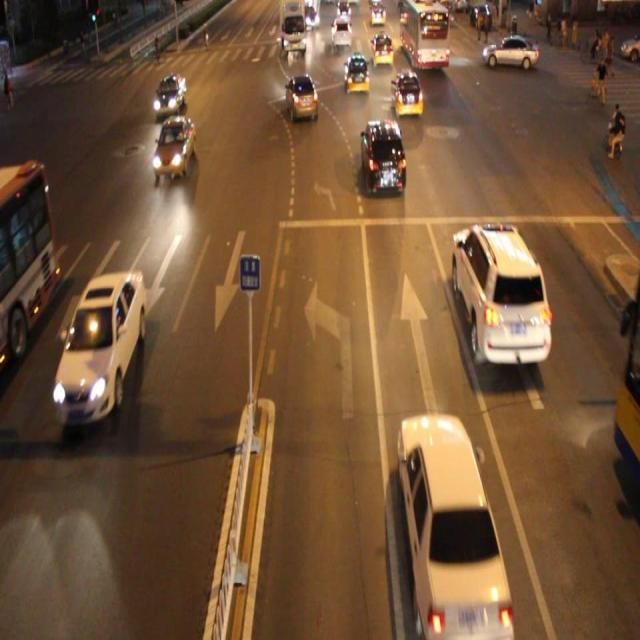car: (398, 413, 512, 640), (53, 272, 148, 426), (452, 220, 549, 364), (362, 118, 405, 194), (148, 117, 196, 176), (285, 74, 319, 122), (152, 73, 187, 114), (392, 70, 422, 116), (344, 53, 369, 94)
van: (1, 163, 58, 364)
